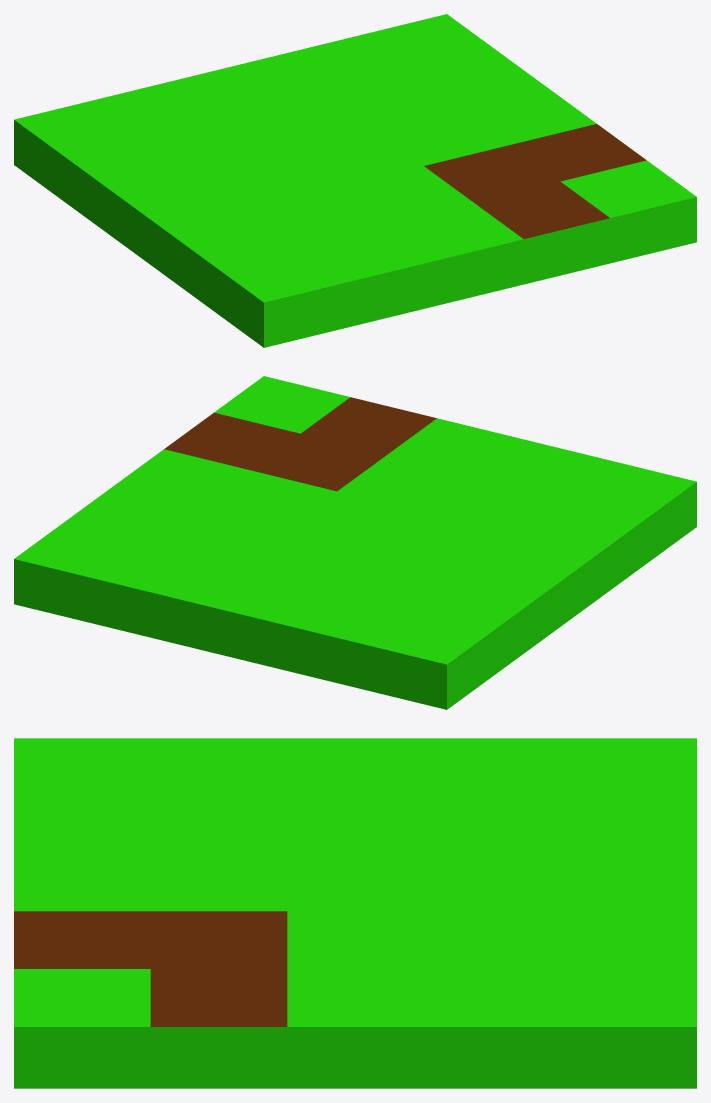
Rendered from newSoil.fbx.
The picture shows the model from 3 angles, top to bottom: view 1: azimuth 30°, elevation 25°; view 2: azimuth 150°, elevation 25°; view 3: azimuth 270°, elevation 25°; orthographic projection. The views are drawn at different scales.
Visible parts, largest first — view 1: Cube; view 2: Cube; view 3: Cube.
Part boxes in pixels (box(x1,y1,x2,y2)): Cube: box(14, 14, 696, 347); Cube: box(14, 376, 696, 709); Cube: box(14, 738, 696, 1088).
Bounding box in the file's own units: 200 × 20 × 200.
